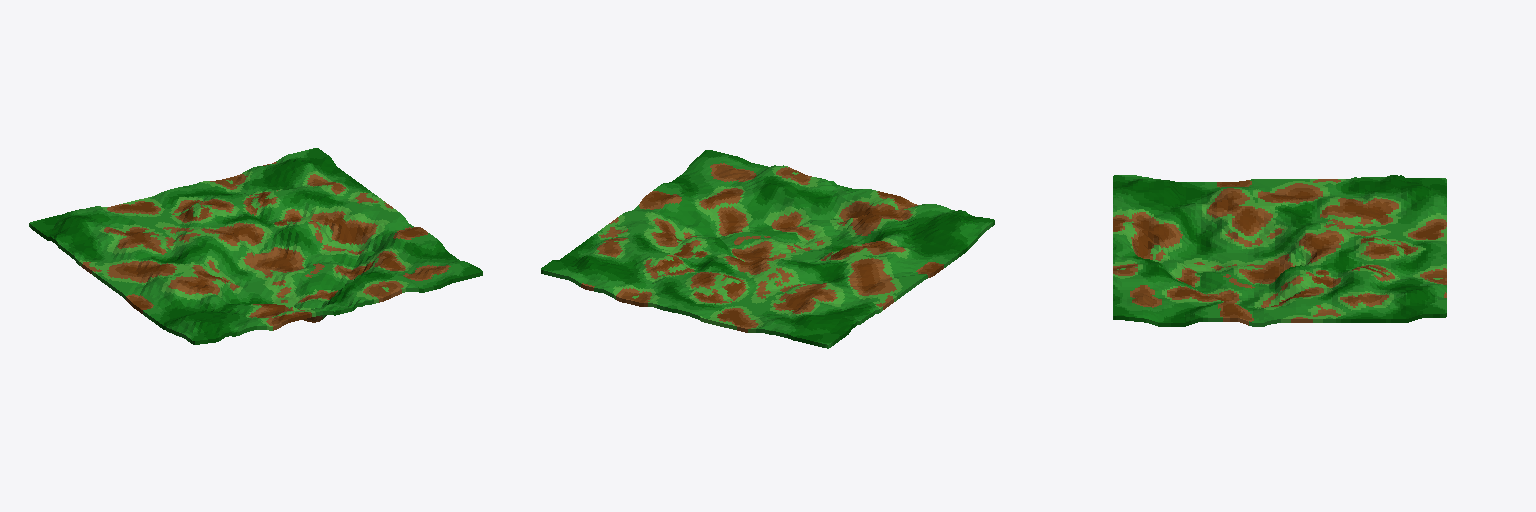
The picture shows the model from 3 angles: view 1: azimuth 30°, elevation 25°; view 2: azimuth 150°, elevation 25°; view 3: azimuth 270°, elevation 25°; orthographic projection.
Visible parts, largest first — view 1: Plane; view 2: Plane; view 3: Plane.
Boxes of the visible parts, x1=… form: Plane: x1=29, y1=148, x2=482, y2=344; Plane: x1=541, y1=150, x2=994, y2=348; Plane: x1=1113, y1=175, x2=1446, y2=326.
Size of the model in its own units: 149 by 19.28 by 149.
1 materials, 1 textured.